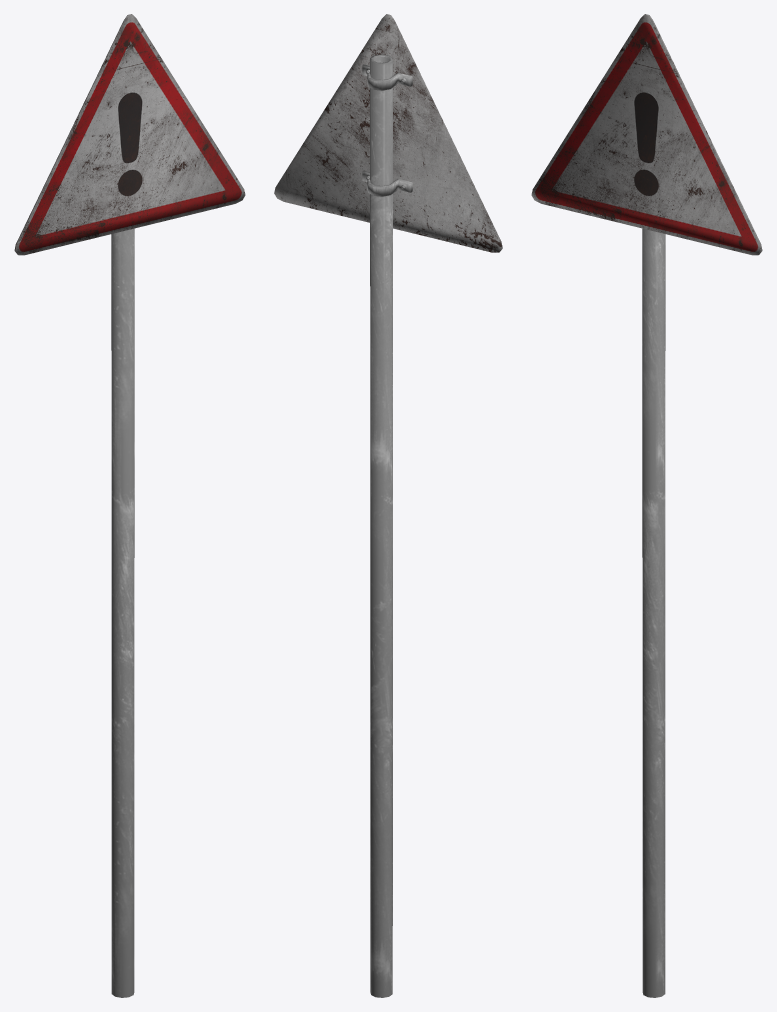
Rendered from Traffic_sign_3.glb.
3 renders of one model, left to right at view 1: azimuth 30°, elevation 25°; view 2: azimuth 150°, elevation 25°; view 3: azimuth 330°, elevation 25°, orthographic.
Parts seen in each view (by area): view 1: warning_Sign2_0, warning_Sign_Pole2_0; view 2: warning_Sign2_0, warning_Sign_Pole2_0, warning_Sign_Support2_0; view 3: warning_Sign2_0, warning_Sign_Pole2_0.
Part boxes in pixels (x1=…): warning_Sign2_0: x1=14, y1=14, x2=245, y2=255; warning_Sign_Pole2_0: x1=111, y1=228, x2=134, y2=997; warning_Sign2_0: x1=274, y1=14, x2=502, y2=252; warning_Sign_Pole2_0: x1=370, y1=54, x2=392, y2=997; warning_Sign_Support2_0: x1=362, y1=64, x2=412, y2=196; warning_Sign2_0: x1=531, y1=14, x2=762, y2=255; warning_Sign_Pole2_0: x1=642, y1=228, x2=665, y2=997.
Size of the model in its own units: 1.49 by 6.07 by 0.1666.
4 materials, 4 textured.
